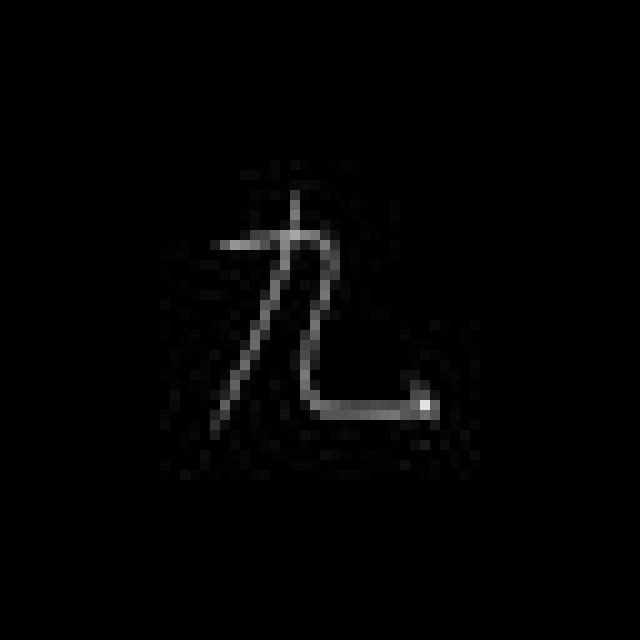9 -nine-: (204, 192, 443, 428)
